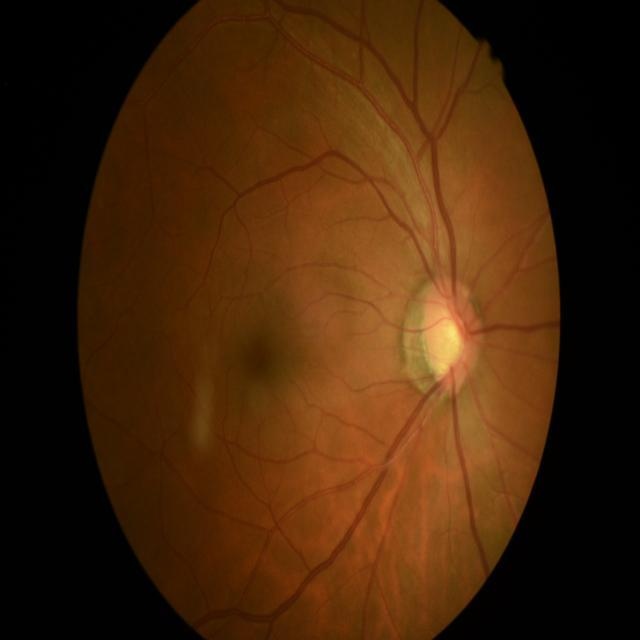cup: (432, 299, 467, 377)
disk: (422, 276, 481, 394)
